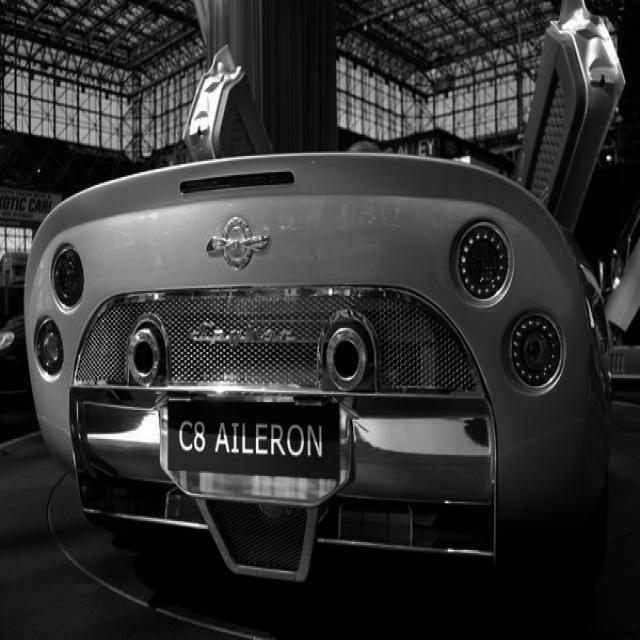car: (22, 0, 625, 600)
